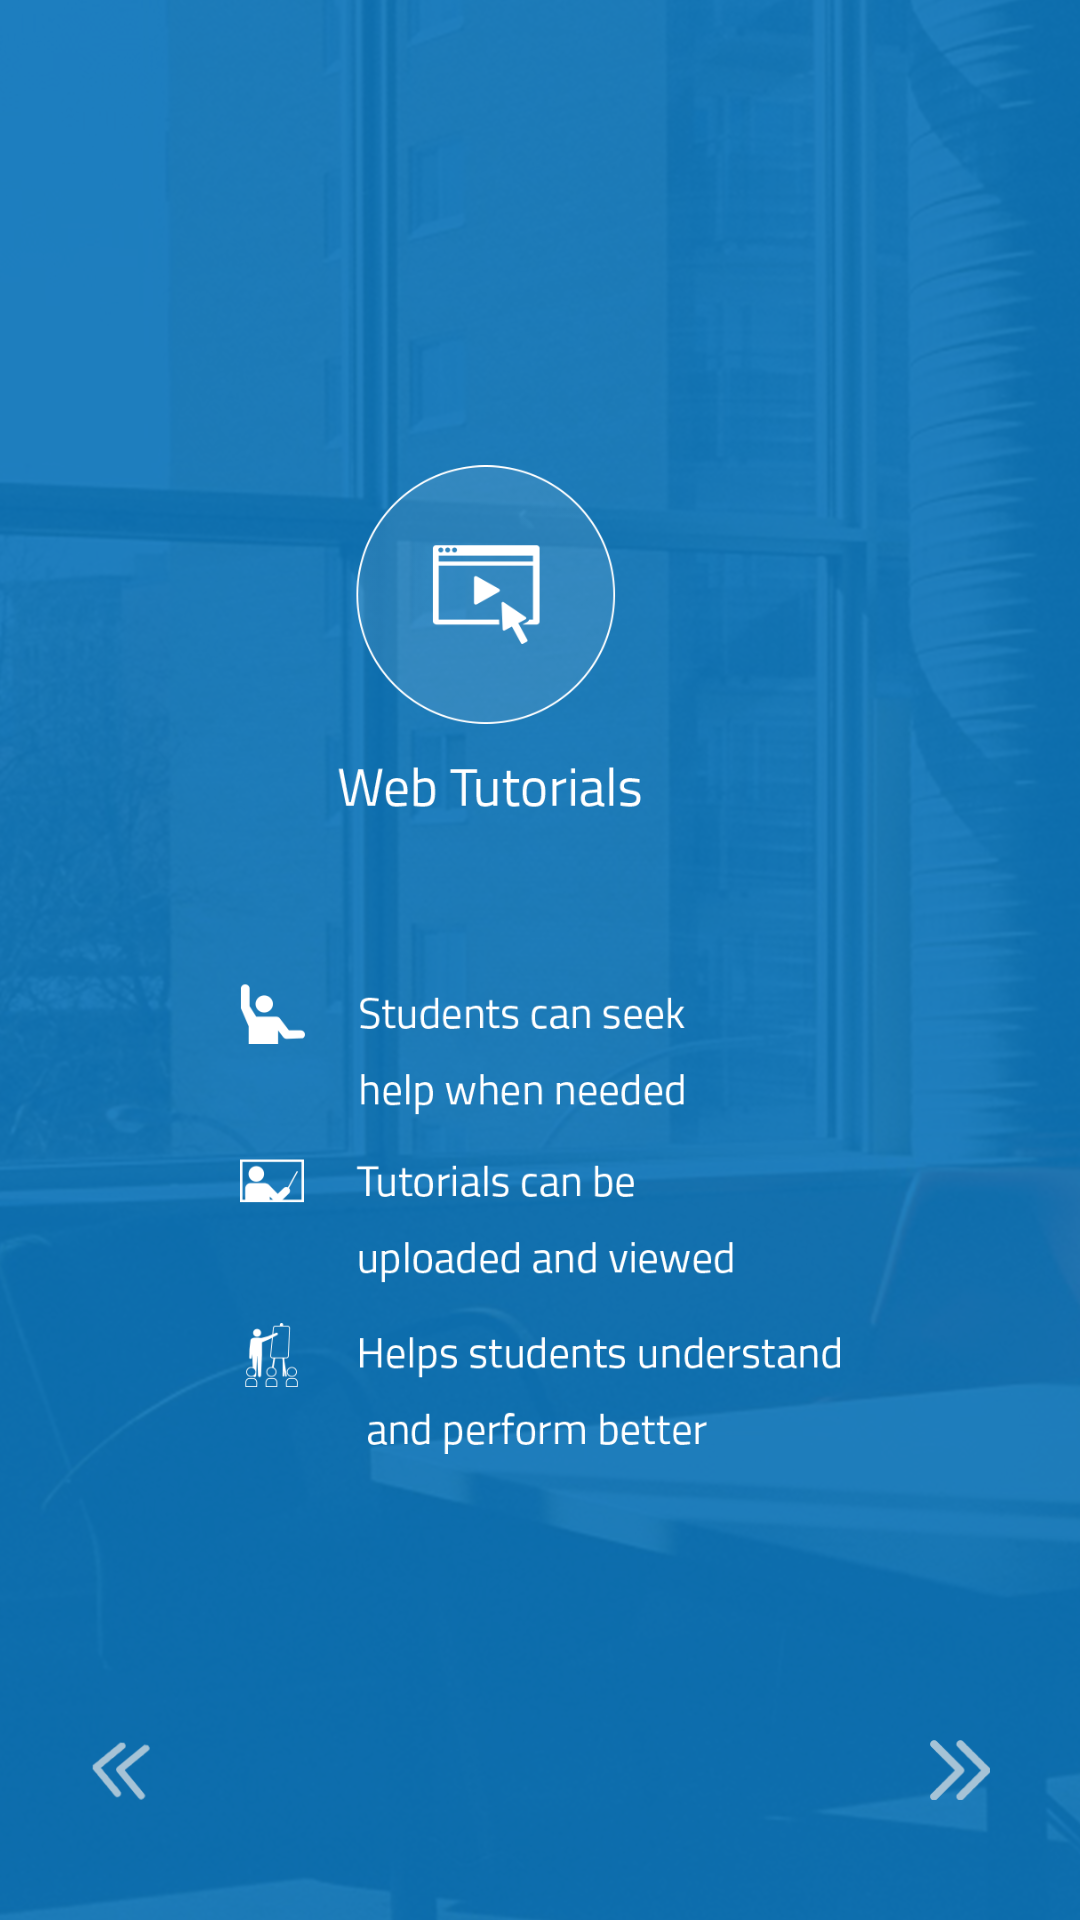

Icon bounding boxes for this 1080×1920 phone screenshot, format [left=x1, top=y1, right=x2, bottom=y2]:
arrowsnext: [left=930, top=1740, right=990, bottom=1800]
arrowsprev: [left=92, top=1742, right=150, bottom=1800]
